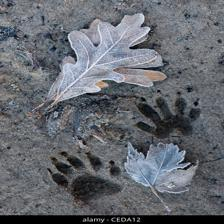raccoon: (39, 144, 131, 204), (129, 89, 211, 139)
